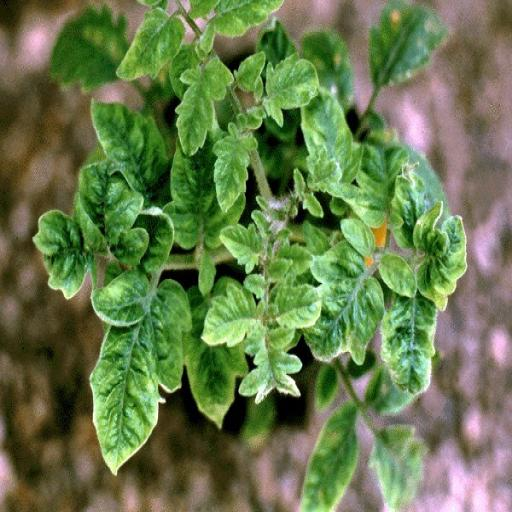disease_tomato: (89, 270, 193, 488), (308, 244, 386, 370), (88, 99, 171, 211), (173, 50, 235, 164), (299, 400, 362, 512), (378, 294, 440, 406), (301, 84, 359, 180), (202, 279, 267, 362), (258, 52, 320, 128), (212, 119, 258, 213), (271, 280, 325, 334), (374, 252, 420, 301), (218, 222, 260, 272), (338, 214, 376, 256)
